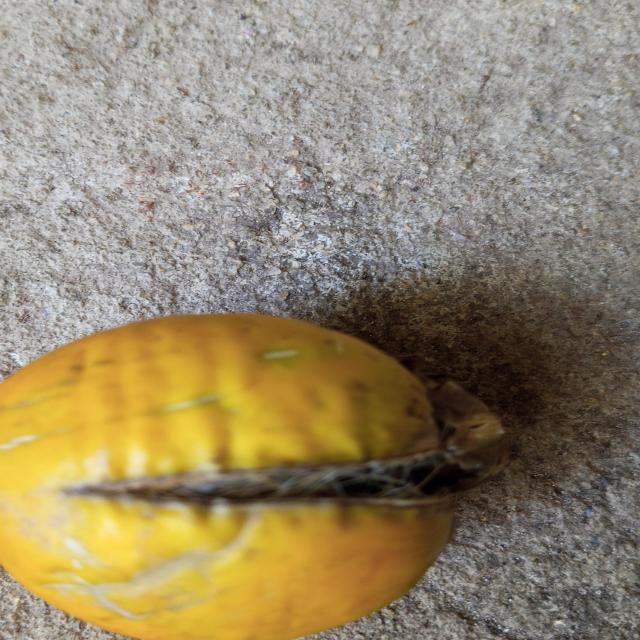damaged: (0, 313, 512, 640)
